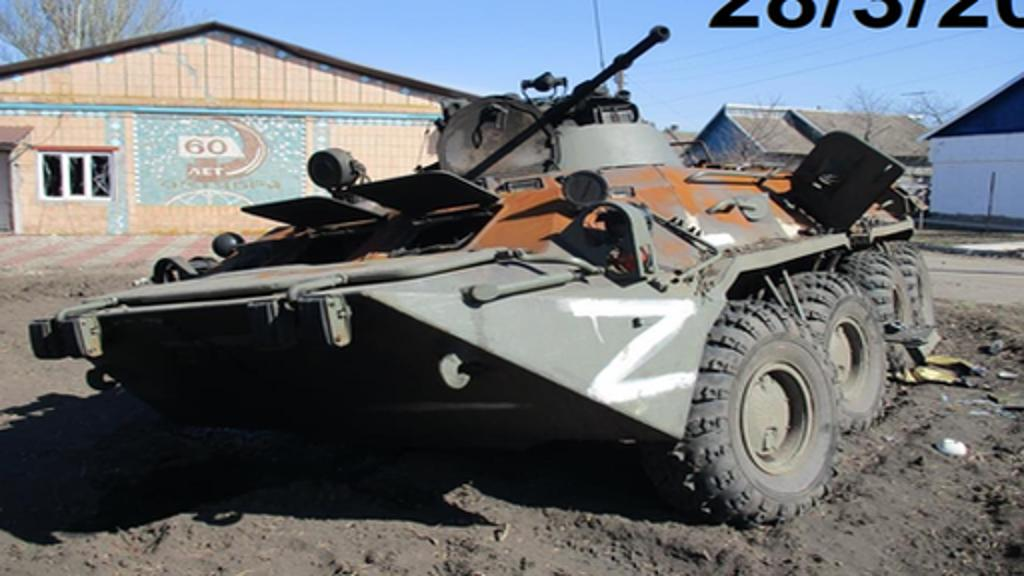APC-IFV: (44, 20, 942, 530)
